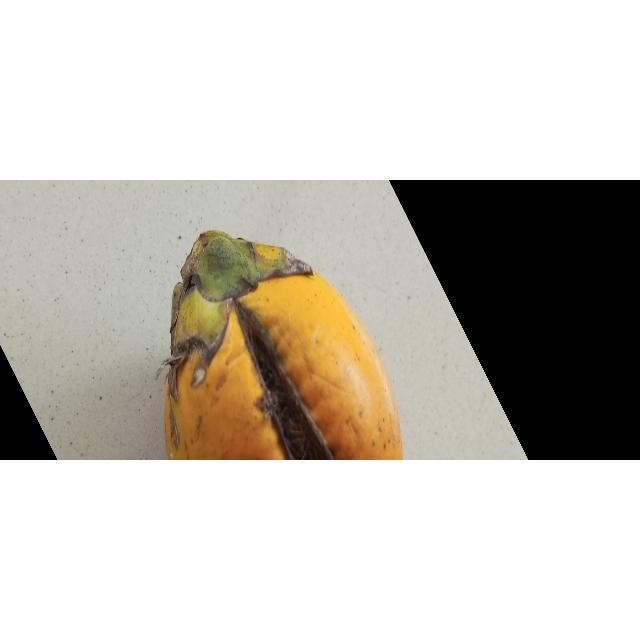damaged: (161, 231, 403, 461)
